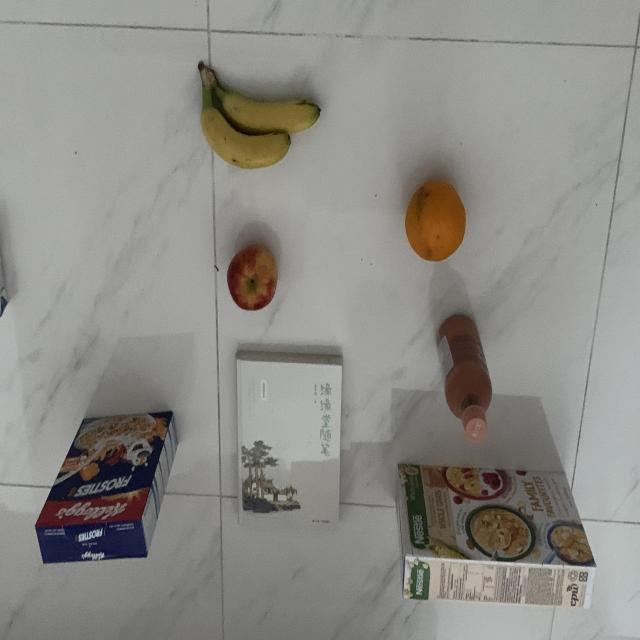Apple: (222, 238, 279, 313)
Banana: (193, 59, 325, 174)
Book: (232, 348, 345, 532)
Cerealbox: (394, 462, 598, 613), (32, 411, 180, 568)
Orange: (400, 177, 472, 270)
